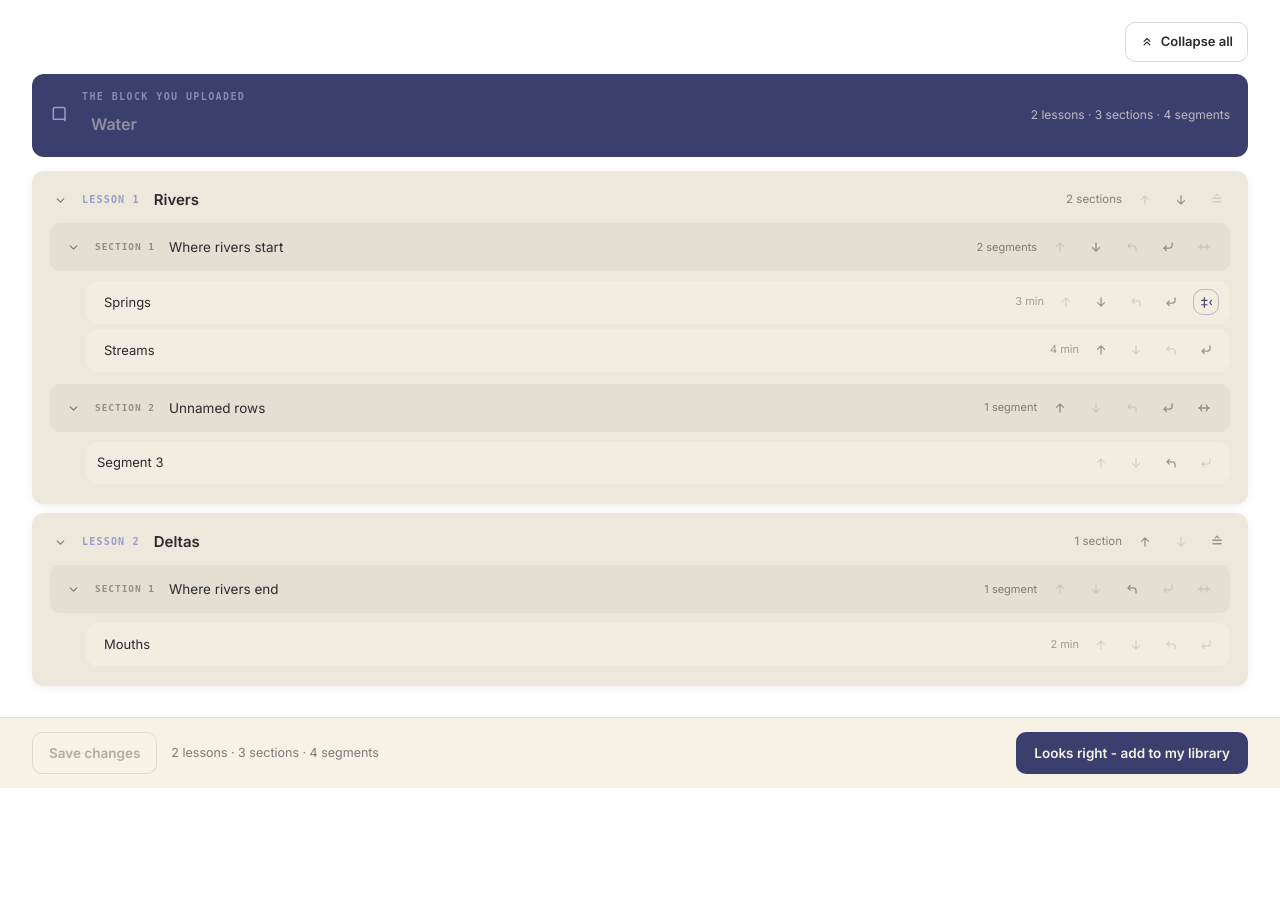
Test: folding the tree › folds the sections too, so a lesson opened after Collapse all shows them folded
Click the button "Collapse all" at point(1186, 42), box [1125,22,1248,62]
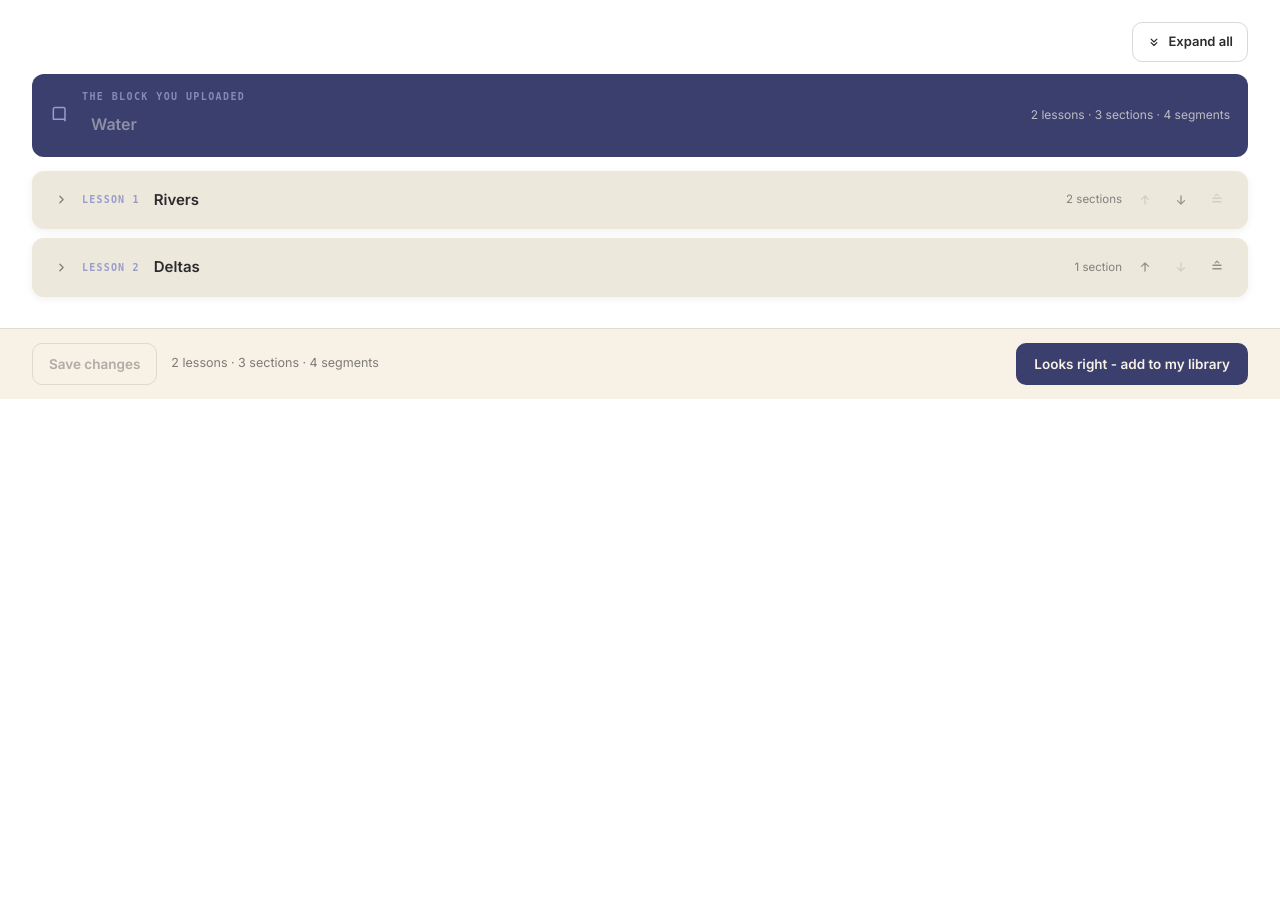
Click the button named "Lesson 1 sections" at point(61, 200), box [50,189,72,211]
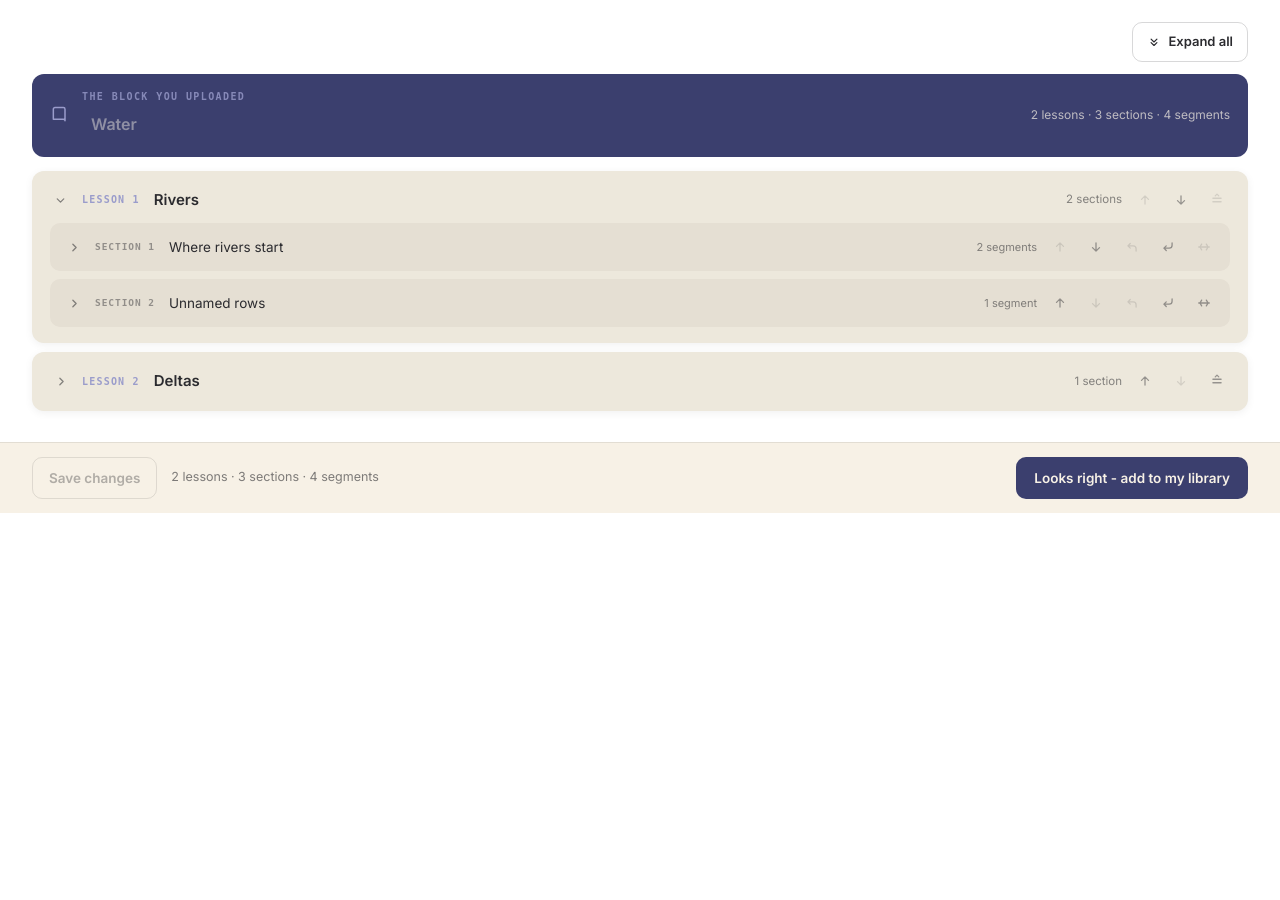
Expected: the field showing "Springs" is not shown
Now the button named "Section 1 segments" is collapsed, box [63,236,85,258]
Now the number of fields named "Section 1 title" is 1, box [165,235,966,259]
